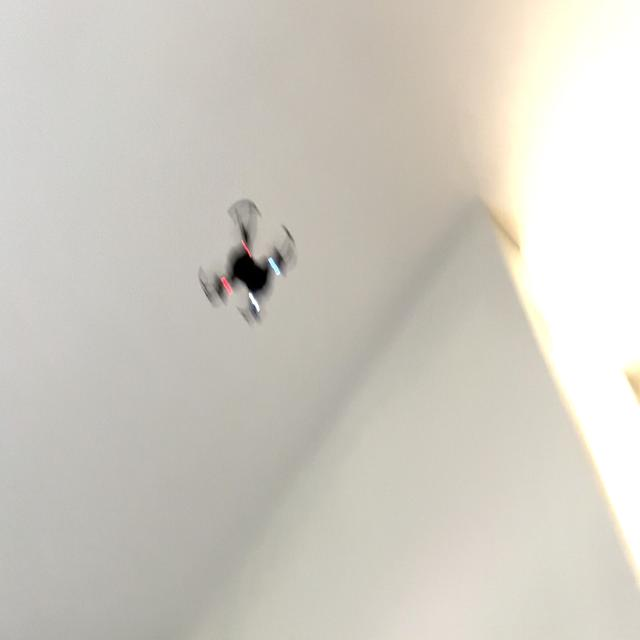drone: (192, 186, 305, 342)
